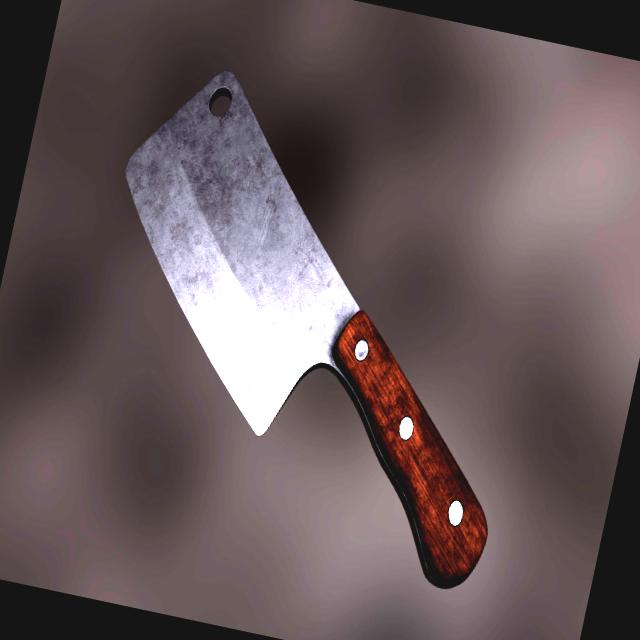cleaver: (59, 55, 570, 592)
